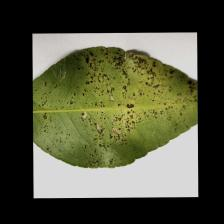canker: (70, 52, 175, 152)
